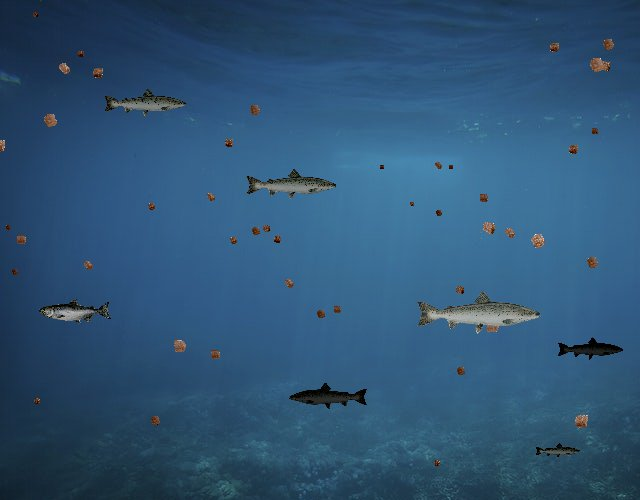Fish: (414, 289, 543, 335), (244, 168, 338, 201), (102, 87, 188, 118), (289, 381, 370, 410), (39, 298, 112, 325), (557, 336, 625, 361), (535, 443, 582, 459)
Pellet: (567, 407, 595, 435), (475, 215, 502, 242), (52, 56, 77, 81), (580, 251, 604, 275), (429, 456, 444, 470), (30, 394, 44, 408), (29, 9, 41, 21)
